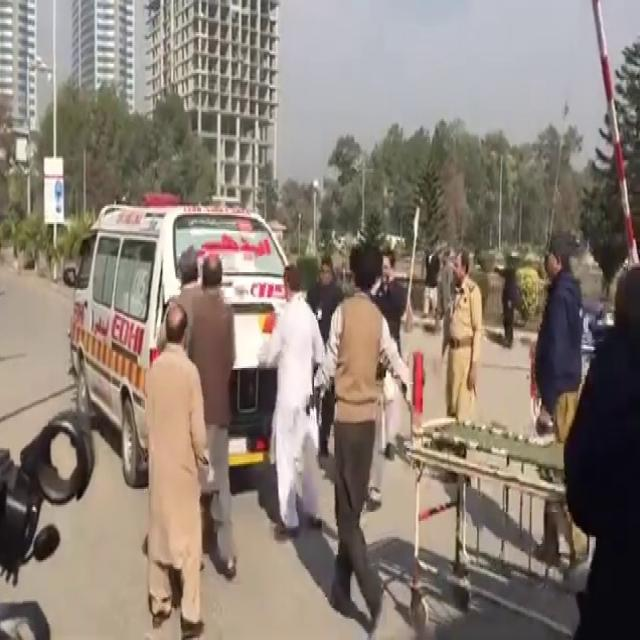ambulance: (66, 204, 309, 439)
